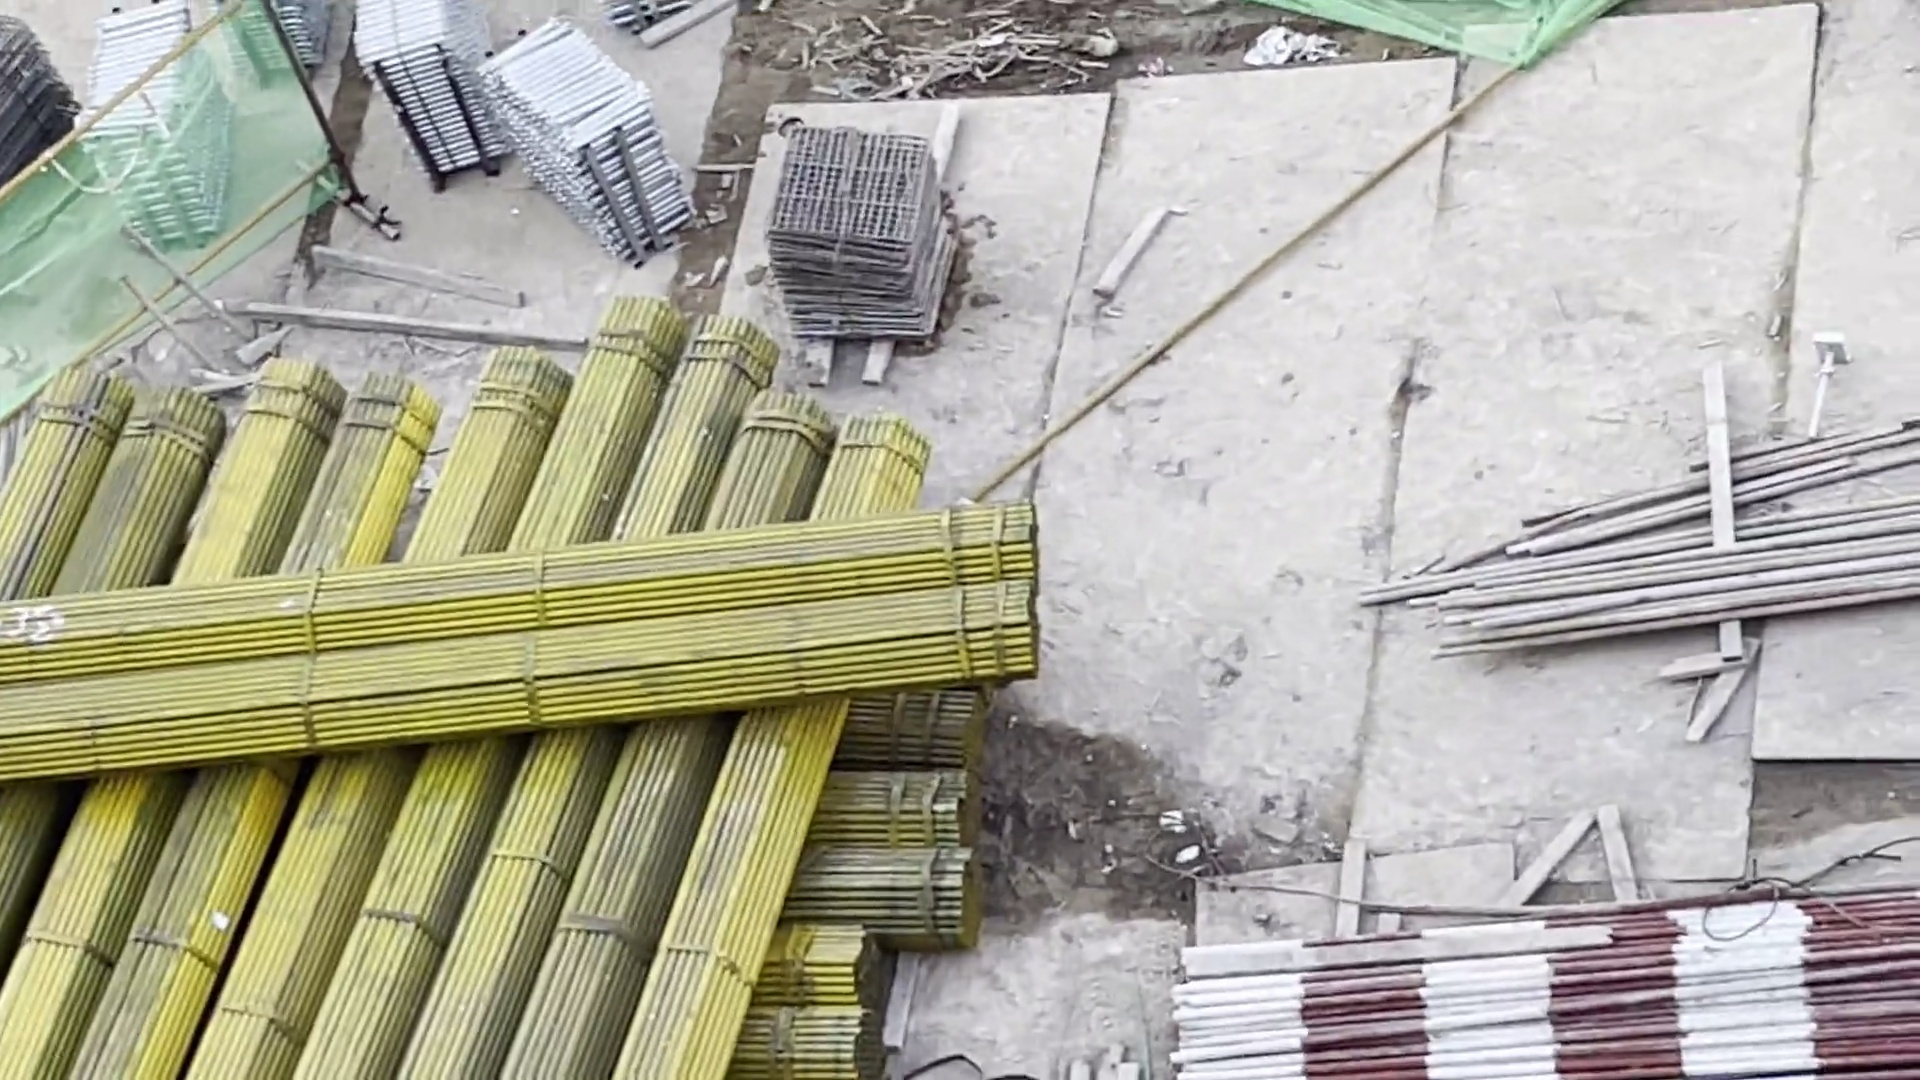scaffold: (473, 20, 711, 278), (67, 1, 225, 233), (349, 1, 518, 175)
